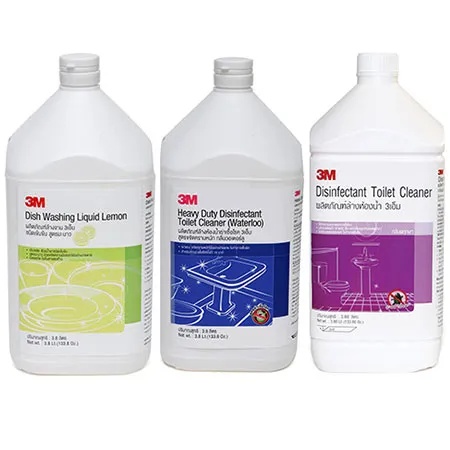Cleaning_solution: (4, 53, 160, 377), (156, 48, 304, 375), (305, 47, 450, 375)
